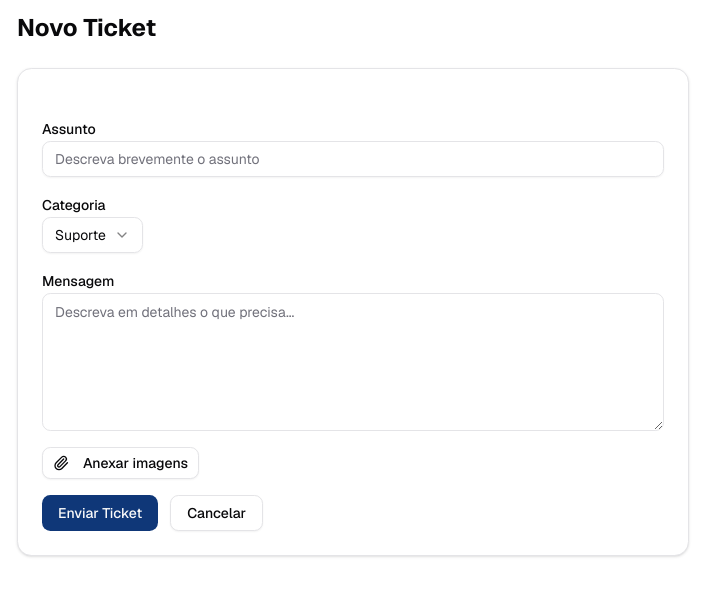
Scenario: NewTicketPage › error handling › shows the API error message when the response is not ok
Type "Assunto" into the field labelled "Assunto" at x=353, y=159, box [42,141,664,177]
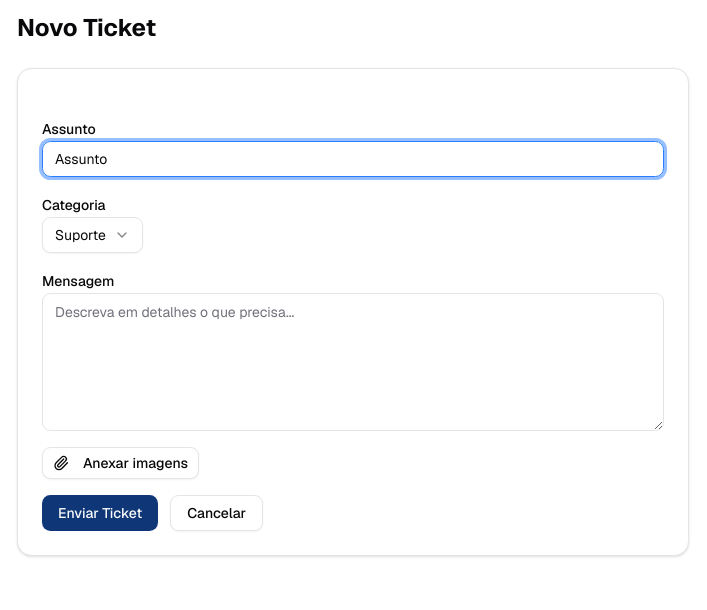
Type "Mensagem" into the text box labelled "Mensagem" at x=353, y=362, box [42,293,664,431]
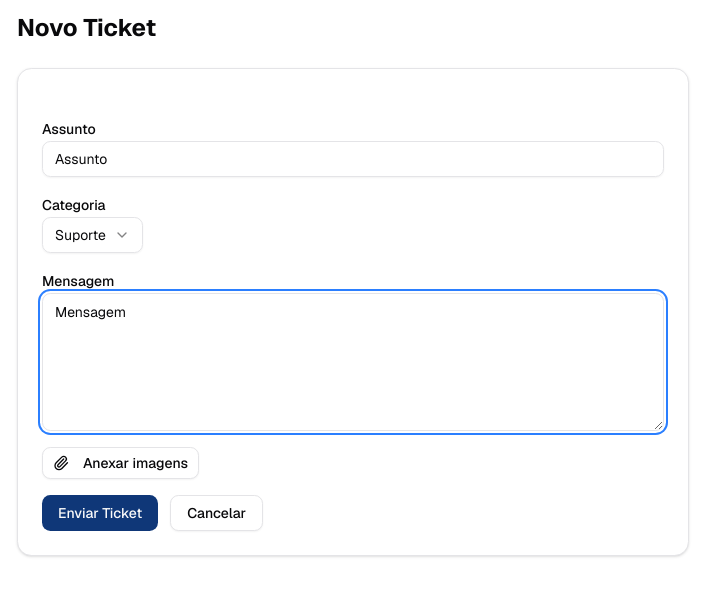
Click the button "Enviar Ticket" at x=100, y=513, box [42,495,158,531]
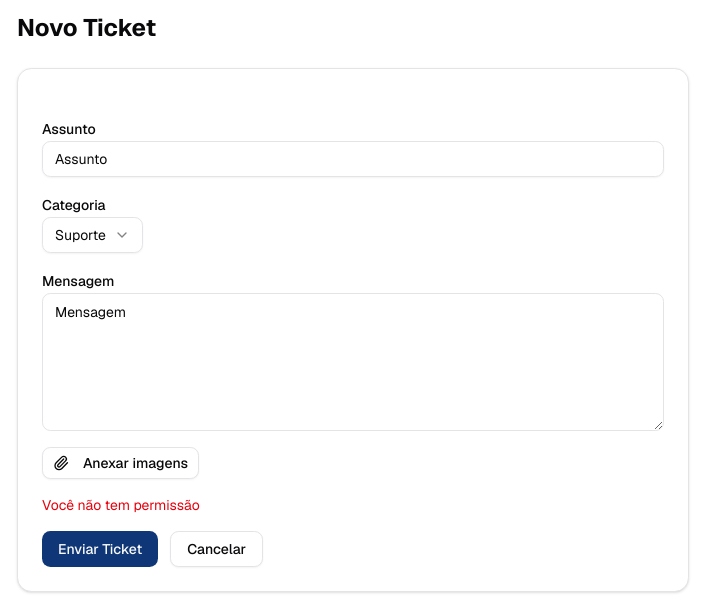
Result: the text "Você não tem permissão" is shown at [42,496,200,514]
